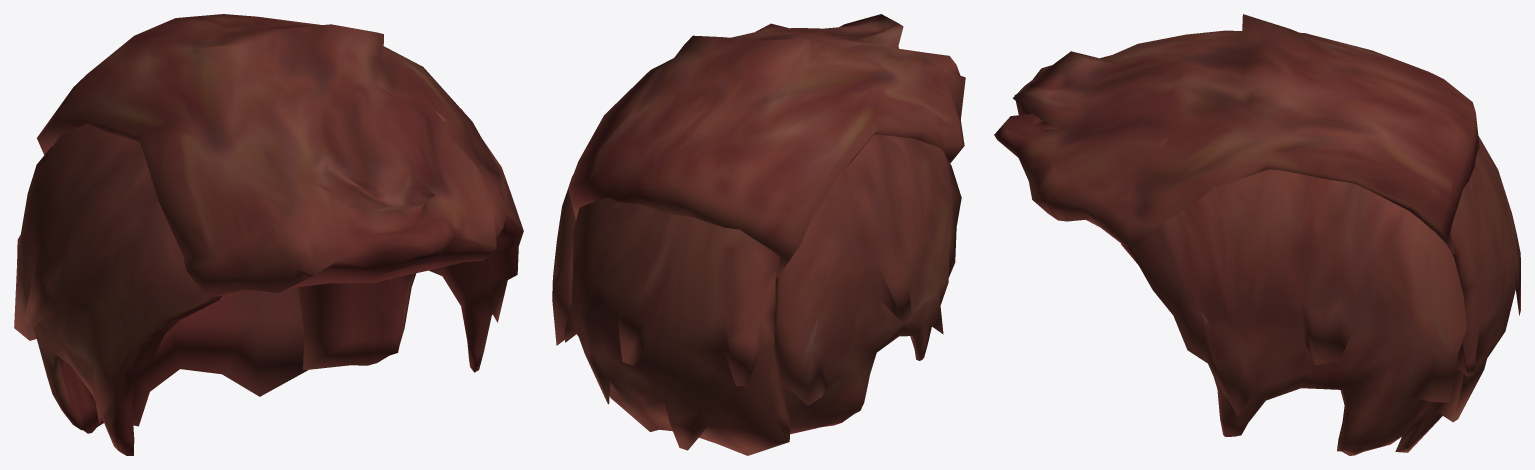
Rendered from modular_short.glb.
3 renders of one model, left to right at view 1: azimuth 30°, elevation 25°; view 2: azimuth 150°, elevation 25°; view 3: azimuth 270°, elevation 25°, orthographic. The views are drawn at different scales.
Parts seen in each view (by area): view 1: hairshortfront, hairshortright, hairshortleft, hairshortback; view 2: hairshortfront, hairshortback, hairshortright, hairshortleft; view 3: hairshortfront, hairshortleft, hairshortback.
Part boxes in pixels (bbox=[...]): hairshortfront: bbox=[37, 14, 507, 299]; hairshortright: bbox=[14, 124, 222, 455]; hairshortleft: bbox=[298, 108, 523, 372]; hairshortback: bbox=[132, 287, 307, 426]; hairshortfront: bbox=[568, 14, 965, 278]; hairshortback: bbox=[564, 198, 789, 455]; hairshortright: bbox=[774, 134, 961, 434]; hairshortleft: bbox=[552, 174, 578, 345]; hairshortfront: bbox=[994, 14, 1479, 254]; hairshortleft: bbox=[1121, 137, 1466, 455]; hairshortback: bbox=[1395, 136, 1520, 452].
Bounding box in the file's own units: 0.1839 × 0.1826 × 0.2215.
Materials: 1 (1 with a texture image).
